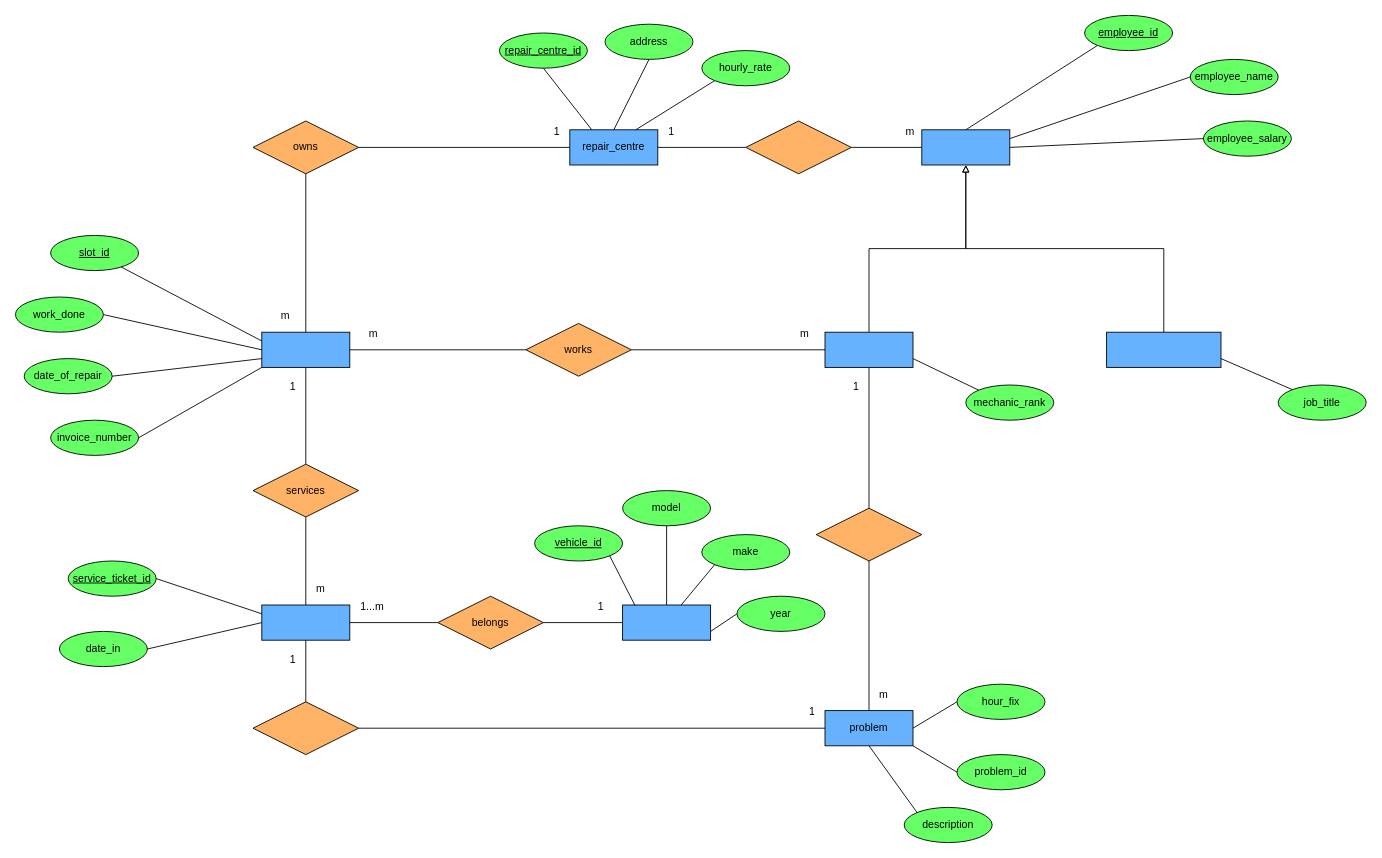
The diagram is 1382 pixels wide and 858 high, and some of its shapes have lost their labels. The box of each missing label's shape, as (x1, y1, x2, y2) in pixels:
addresses: (252, 701, 359, 755)
admin_staff: (1106, 331, 1221, 367)
employee: (921, 129, 1010, 165)
employs: (745, 120, 851, 174)
mechanic: (824, 331, 913, 367)
repair_bay: (261, 331, 350, 367)
service_ticket: (261, 604, 350, 640)
solves: (815, 507, 922, 561)
vehicle: (622, 604, 711, 640)
